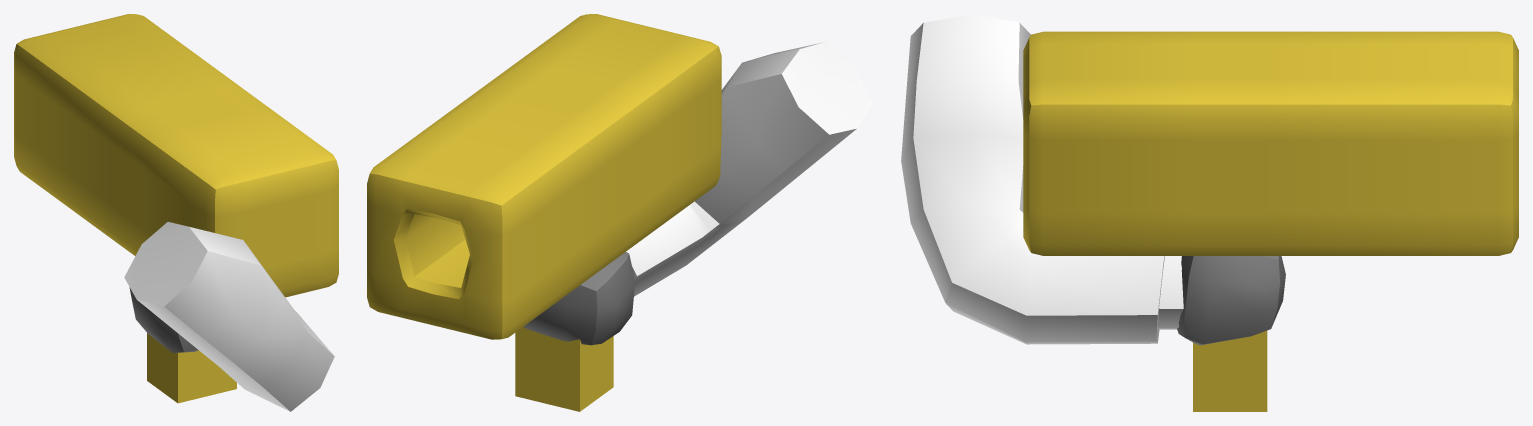
The model's file is die_arm_bullet_mono.gltf.
The picture shows the model from 3 angles, left to right: view 1: azimuth 30°, elevation 25°; view 2: azimuth 150°, elevation 25°; view 3: azimuth 270°, elevation 25°; orthographic projection. The views are drawn at different scales.
Parts seen in each view (by area): view 1: die_arm_bullet_mono-Mat.d_yellow, die_arm_bullet_mono-Mat.d..2, die_arm_bullet_mono-Mat.d..1; view 2: die_arm_bullet_mono-Mat.d_yellow, die_arm_bullet_mono-Mat.d..2, die_arm_bullet_mono-Mat.d..1; view 3: die_arm_bullet_mono-Mat.d_yellow, die_arm_bullet_mono-Mat.d..2, die_arm_bullet_mono-Mat.d..1.
Part boxes in pixels (<box>): die_arm_bullet_mono-Mat.d_yellow: <box>14,14,338,403</box>; die_arm_bullet_mono-Mat.d..2: <box>124,222,334,411</box>; die_arm_bullet_mono-Mat.d..1: <box>129,287,198,352</box>; die_arm_bullet_mono-Mat.d_yellow: <box>367,14,721,411</box>; die_arm_bullet_mono-Mat.d..2: <box>626,42,872,296</box>; die_arm_bullet_mono-Mat.d..1: <box>523,252,634,345</box>; die_arm_bullet_mono-Mat.d_yellow: <box>1023,31,1518,411</box>; die_arm_bullet_mono-Mat.d..2: <box>901,14,1183,344</box>; die_arm_bullet_mono-Mat.d..1: <box>1177,256,1285,345</box>.
Bounding box in the file's own units: 152 × 175 × 294.
